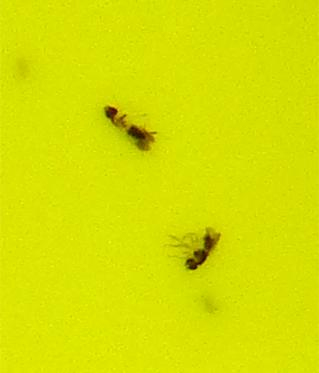Brachycera: (100, 100, 155, 155), (181, 228, 219, 273)
